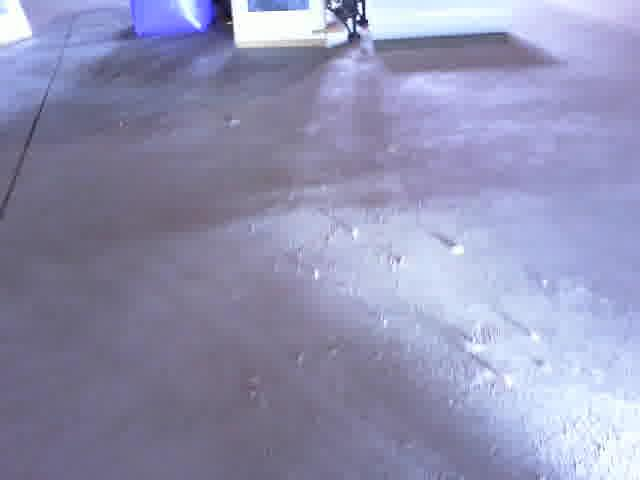coral: (366, 0, 516, 41)
